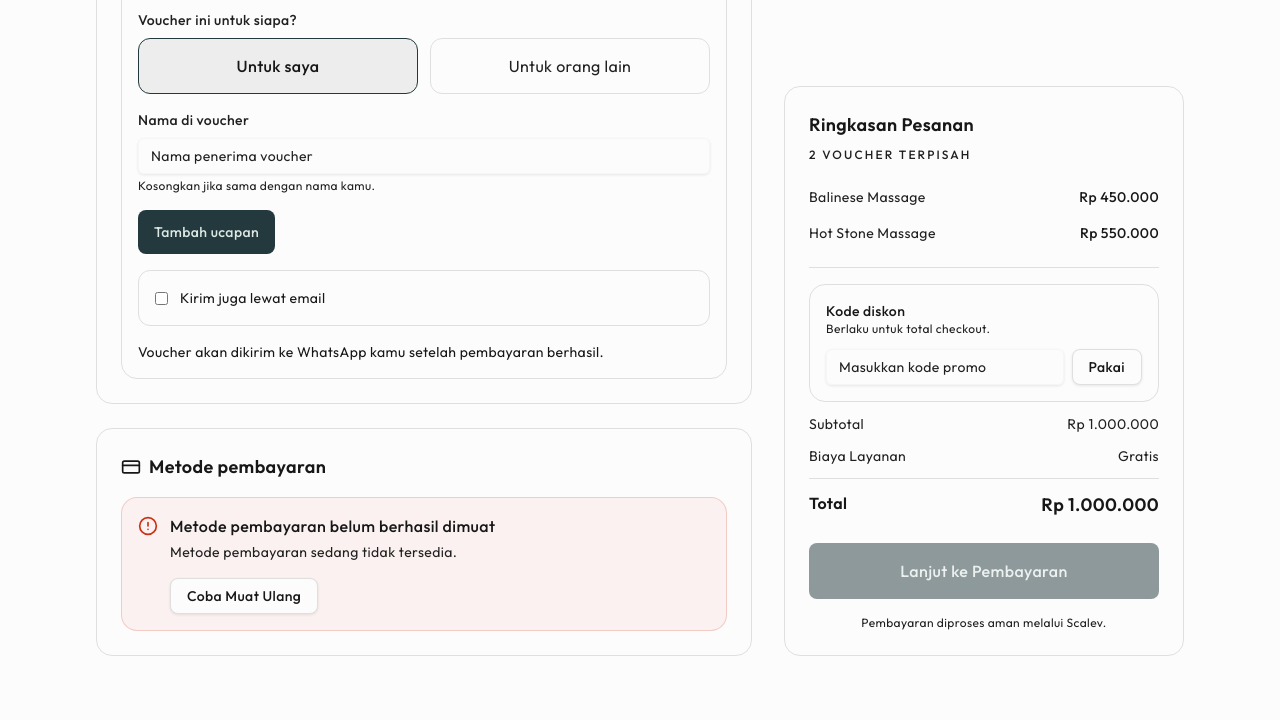
Test: CartCheckoutClient › preserves explicit retry after a failed payment-options request
The image size is (1280, 720).
(page scrolled)
Click the button "Coba Muat Ulang" at (244, 596), box [170, 578, 318, 614]
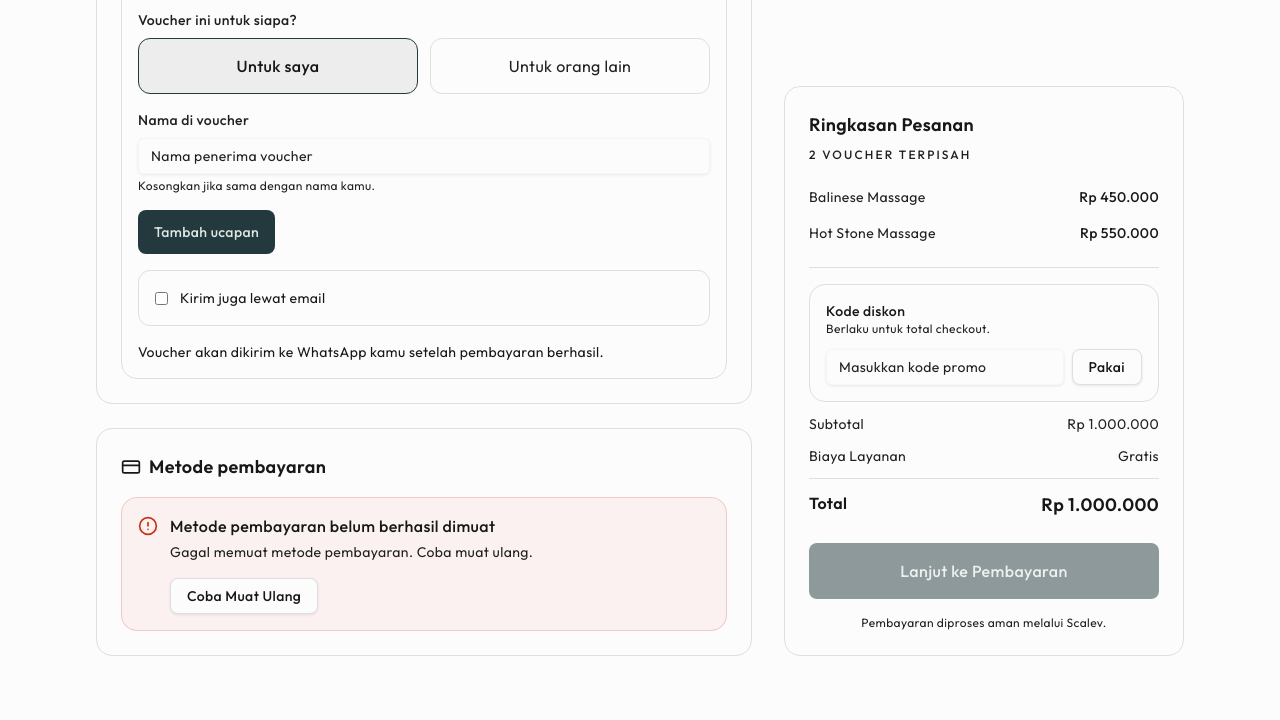
expect the text "Gagal memuat metode pembayaran. Coba muat ulang." is shown: met, box [170, 542, 533, 562]
